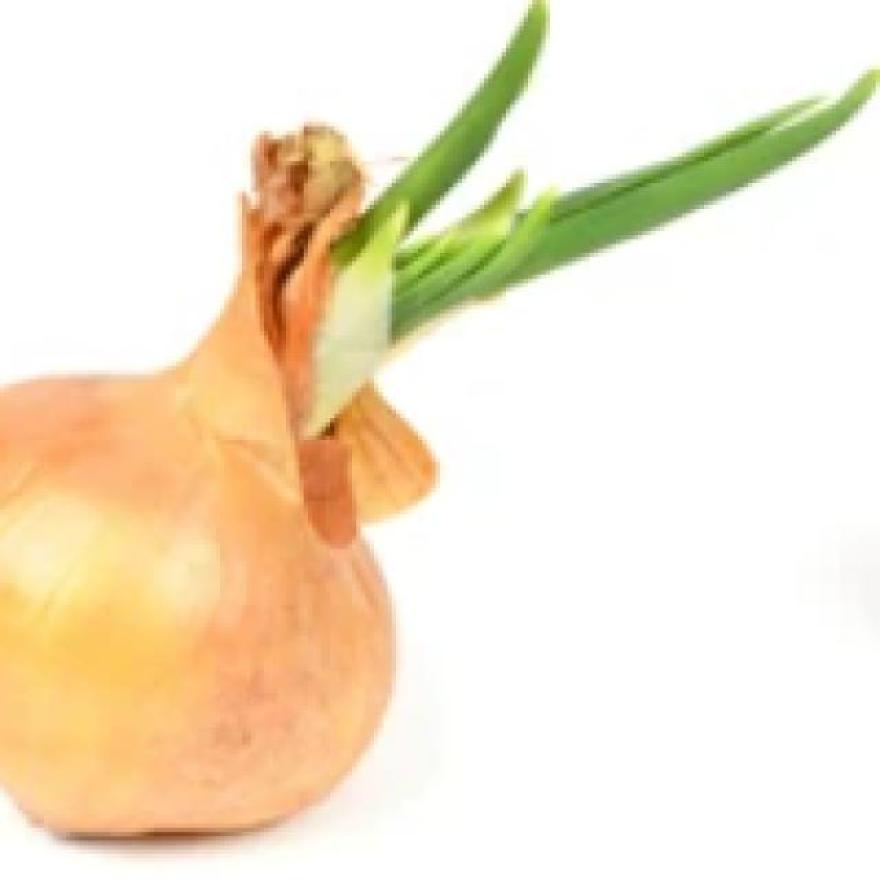Sprouted: (290, 170, 466, 401)
